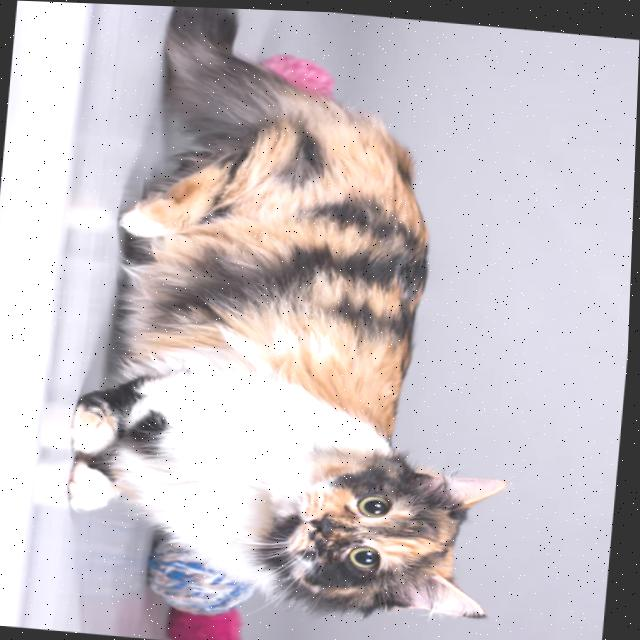Munchkin: (54, 2, 555, 631)
